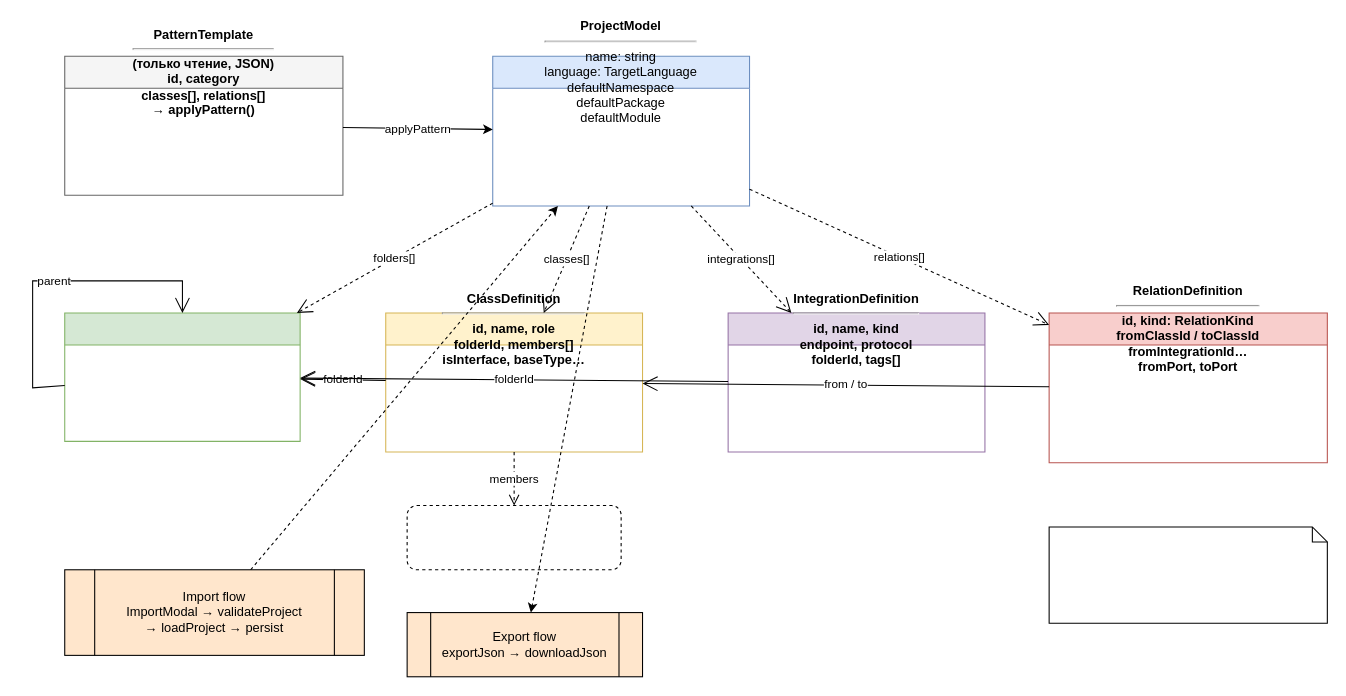
Image size: 1346x696. Some labels were removed from this diagram. The shapes that lost their labels are listed below. From the top down, each one's box as (x1, y1, x2, y2) in pixels, then its label:
(64, 312, 300, 441): FolderDefinition id, name, segment x, y, width, height parentFolderId
(406, 505, 621, 570): MemberDefinition (внутри ClassDefinition)
(1048, 526, 1327, 623): Лимиты (validation.ts) 2 MB · 200 classes · 500 relations SCHEMA_VERSION = 2
